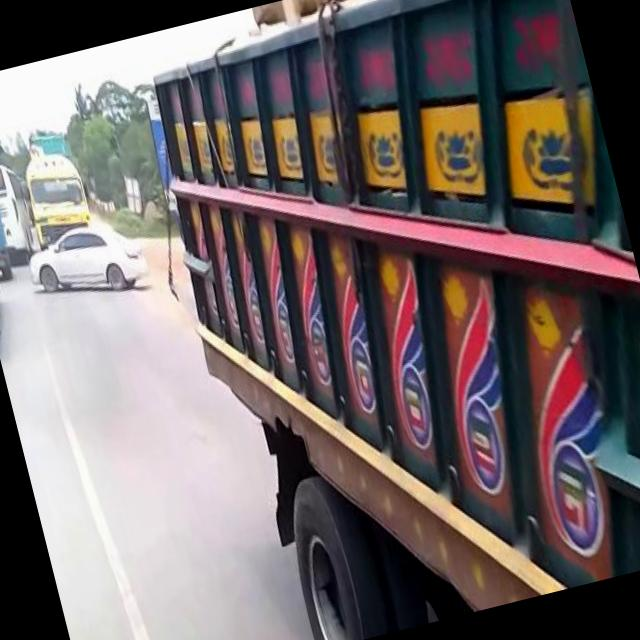bus: (0, 150, 40, 267)
car: (16, 206, 152, 311)
truck: (118, 0, 640, 640), (10, 124, 98, 248)
